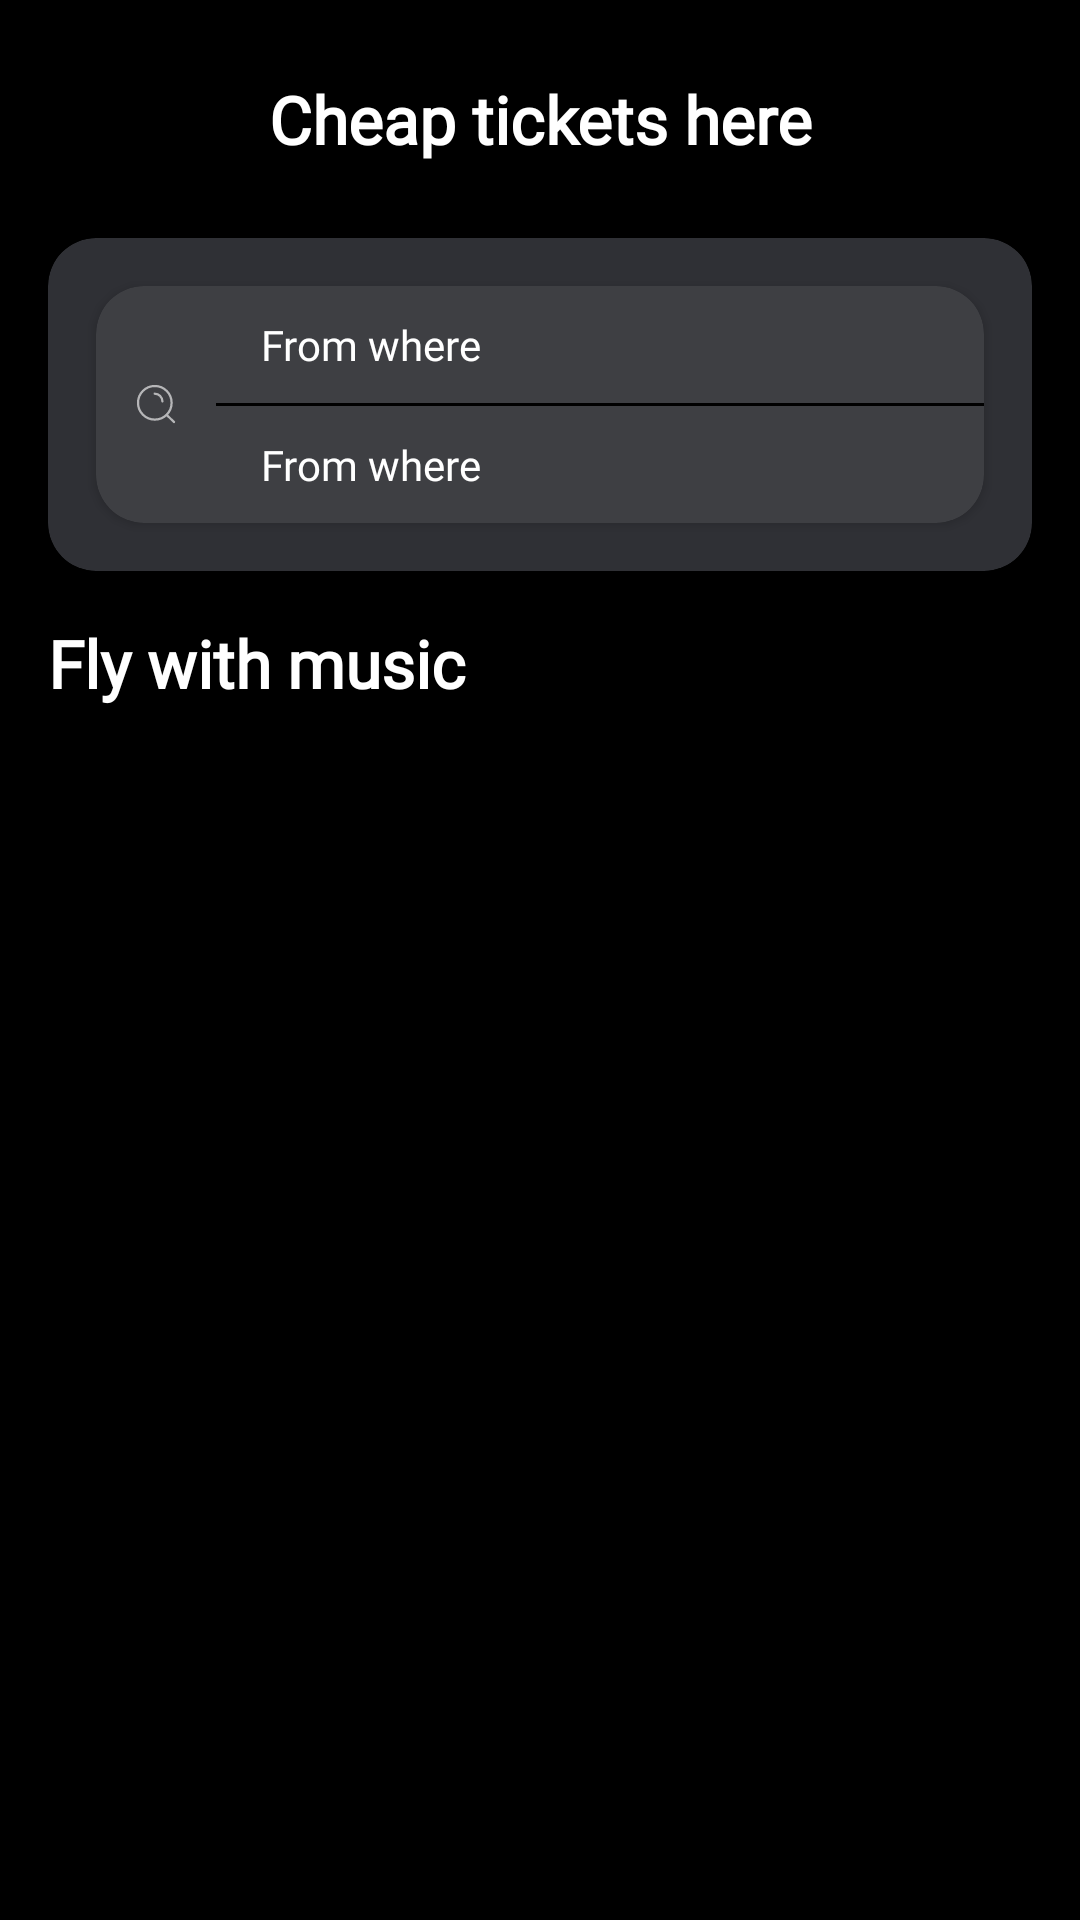

Screen size 1080 × 1920. Icon name, then its box in pixels as (x1, y1, x2, y2):
search: (137, 385, 175, 423)
